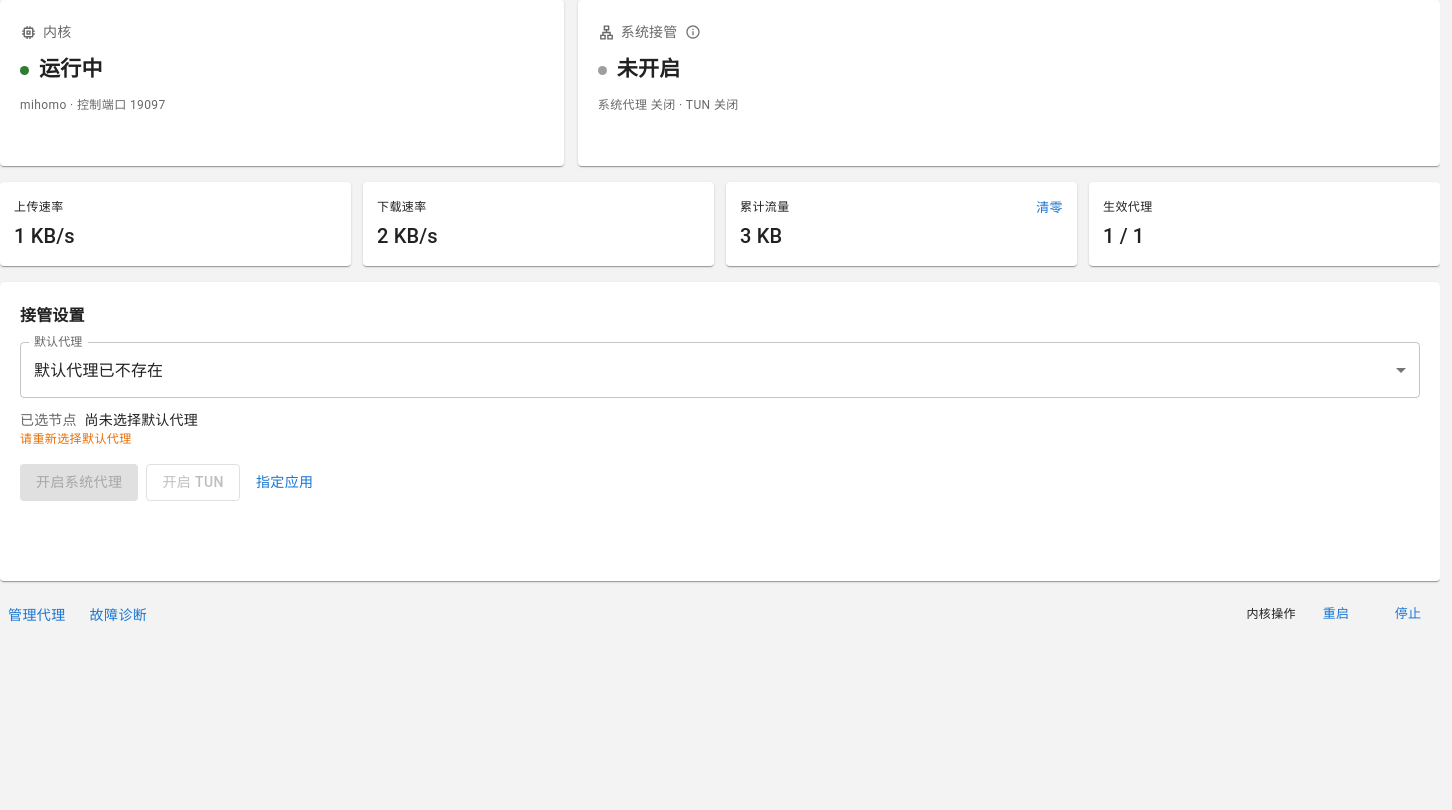
Test case: shows missing defaults and binds another proxy before allowing capture
Expected: the button "开启系统代理" is disabled, [20,464,138,500]
Press the mouse on the dropdown labelled "默认代理" at coordinates (99, 370), box [34,360,163,380]
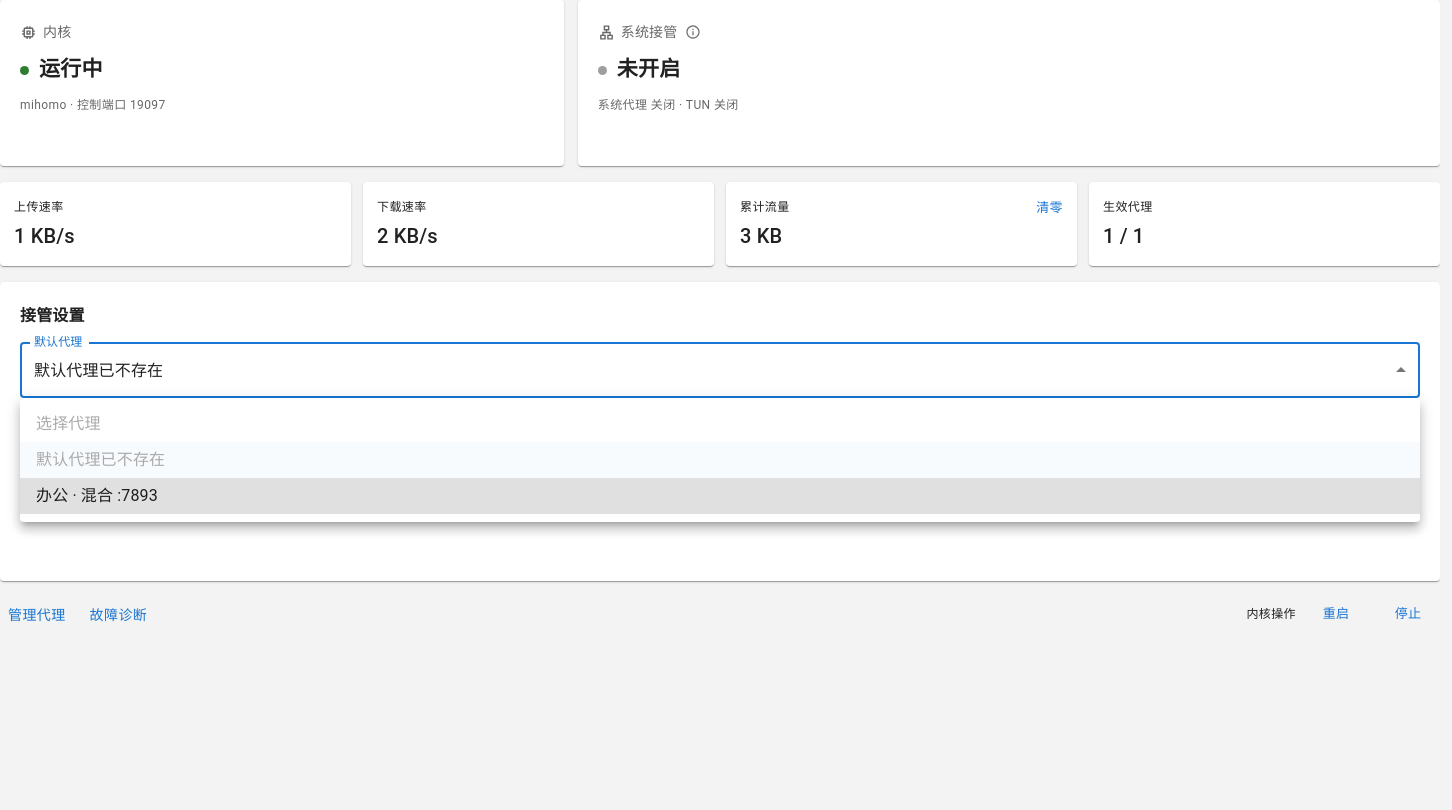
Click the option "办公 · 混合 :7893" at coordinates (97, 496), box [20,478,1420,514]
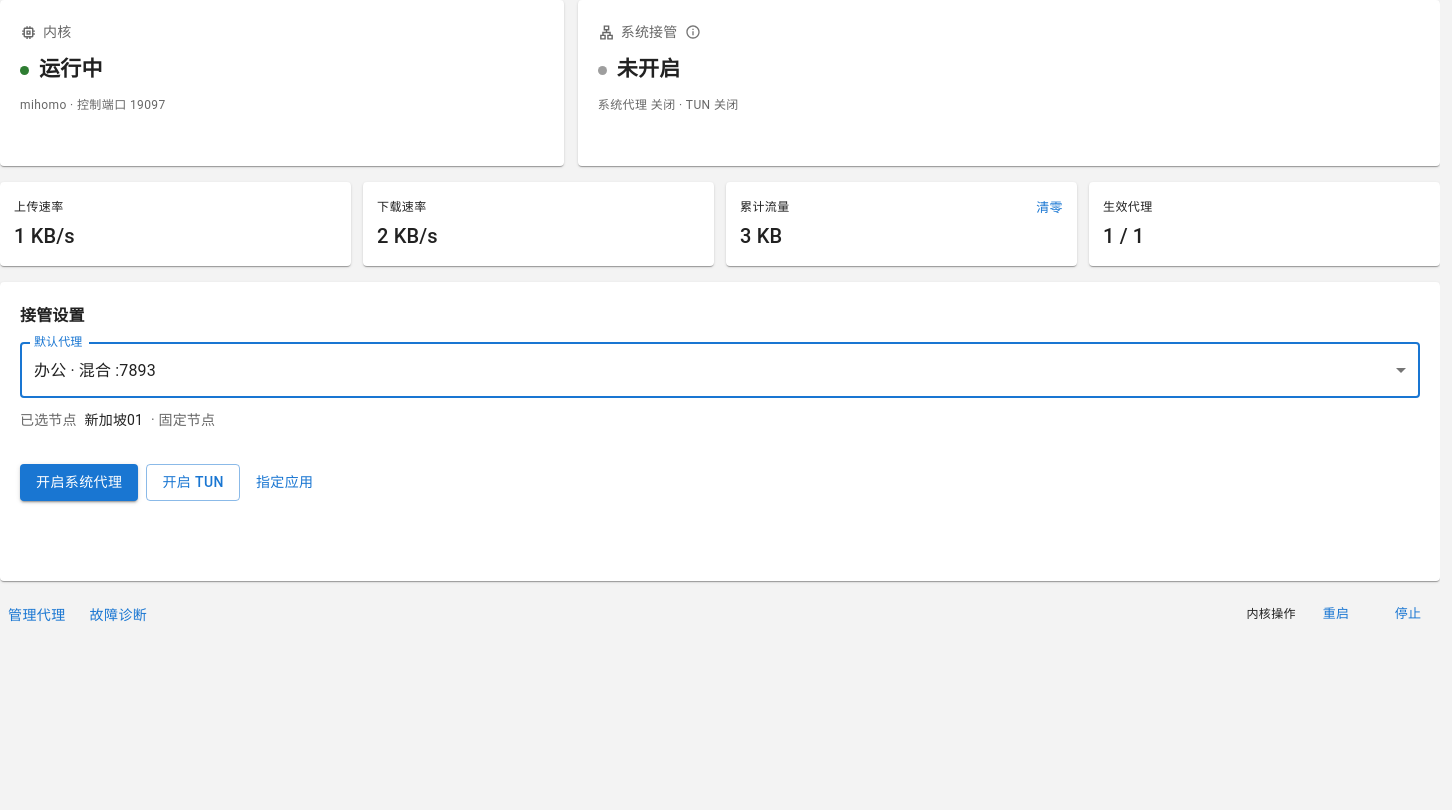
Now the button "开启系统代理" is enabled, box [20,464,138,500]
Now the text "新加坡01" is shown, box [85,412,143,428]
